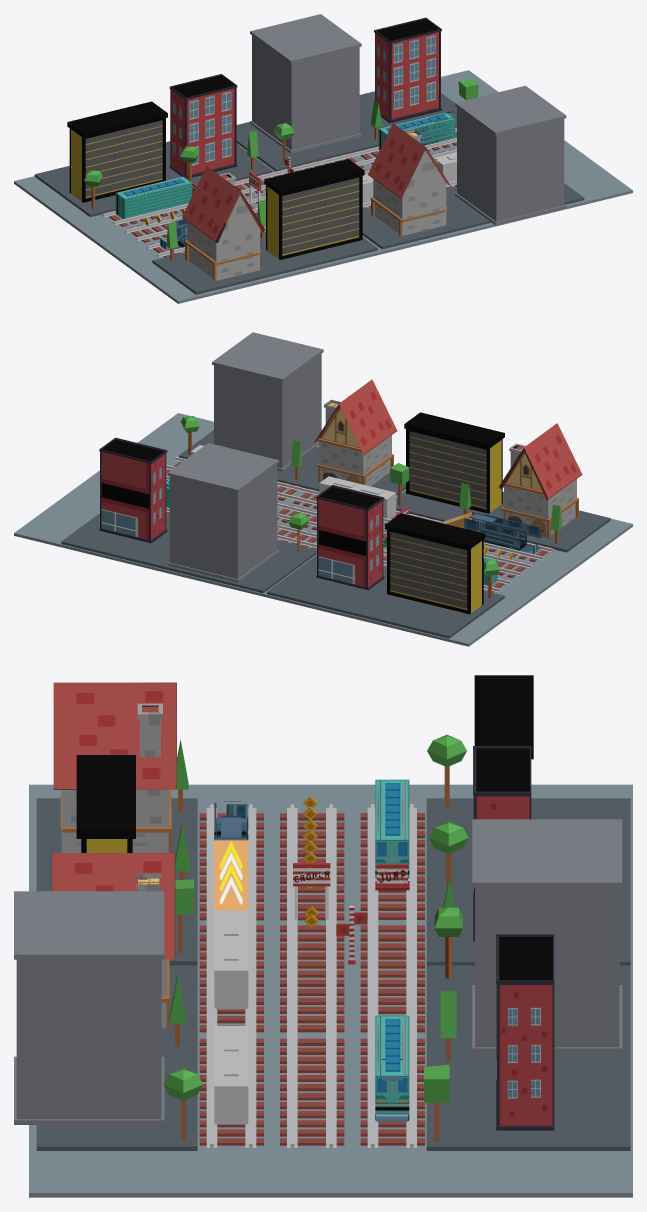
The model's file is starting.fbx.
3 views of the same model, one above another, from view 1: azimuth 30°, elevation 25°; view 2: azimuth 150°, elevation 25°; view 3: azimuth 270°, elevation 25° (orthographic). The views are drawn at different scales.
Parts seen in each view (by area): view 1: Cube.184, Cube.179, ground.006, Cube.197, Cube.178, Cylinder.009, Cylinder.010, Cube.193, Cube.180, Cube.194, Cube.195, Cube.196 (+9 smaller); view 2: Cube.179, ground.006, Cube.184, Cube.178, Cube.197, Cube.183, Cube.193, Cube.180, Cylinder.010, Cylinder.009, Cube.195, Cube.194 (+9 smaller); view 3: ground.006, Cube.184, Cube.179, Cube.195, Cylinder.009, Cube.193, Cube.183, Cube.196, Cube.198, Cube.189, Cylinder.010, Cube.188 (+25 smaller).
Boxes of the visible parts, x1,y1,x2,y2 form: Cube.184: (455,85,566,225); Cube.179: (250,14,361,153); ground.006: (14,70,632,303); Cube.197: (264,159,364,259); Cube.178: (67,101,167,202); Cylinder.009: (182,166,265,281); Cylinder.010: (368,123,450,236); Cube.193: (374,17,441,122); Cube.180: (169,74,237,178); Cube.194: (152,232,377,294); Cube.195: (236,91,456,171); Cube.196: (362,183,584,249); Cube.179: (167,443,279,582); ground.006: (14,413,632,646); Cube.184: (212,332,323,471); Cube.178: (385,513,485,614); Cube.197: (404,412,504,513); Cube.183: (267,555,504,638); Cube.193: (99,437,167,543); Cube.180: (316,485,384,590); Cylinder.010: (314,379,397,486); Cylinder.009: (499,423,582,538); Cube.195: (61,513,316,593); Cube.194: (396,491,610,552); ground.006: (29,784,632,1197); Cube.184: (14,891,164,1124); Cube.179: (472,819,622,1052); Cube.195: (426,965,630,1150); Cylinder.009: (53,682,176,852); Cube.193: (496,934,554,1130); Cube.183: (426,798,630,965); Cube.196: (36,965,197,1150); Cube.198: (280,1029,344,1148); Cube.189: (280,918,344,1034); Cylinder.010: (51,853,175,1028); Cube.188: (360,918,424,1034).
Bounding box in the file's own units: 3600 × 739 × 2307.
